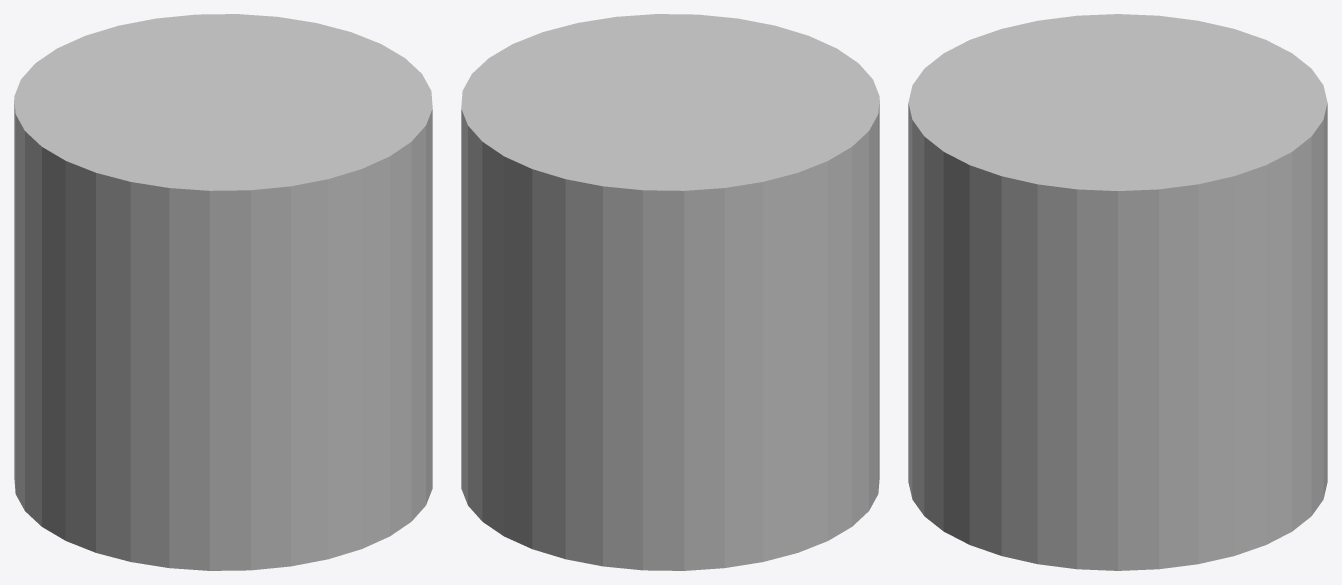
The picture shows the model from 3 angles, left to right: view 1: azimuth 30°, elevation 25°; view 2: azimuth 150°, elevation 25°; view 3: azimuth 270°, elevation 25°; orthographic projection.
Parts seen in each view (by area): view 1: Cylinder_円柱; view 2: Cylinder_円柱; view 3: Cylinder_円柱.
Boxes of the visible parts, left/top/right/bottom form: Cylinder_円柱: left=14, top=14, right=432, bottom=570; Cylinder_円柱: left=461, top=14, right=879, bottom=570; Cylinder_円柱: left=908, top=14, right=1327, bottom=570.
Size of the model in its own units: 10 by 10 by 10.
1 material, 1 textured.
